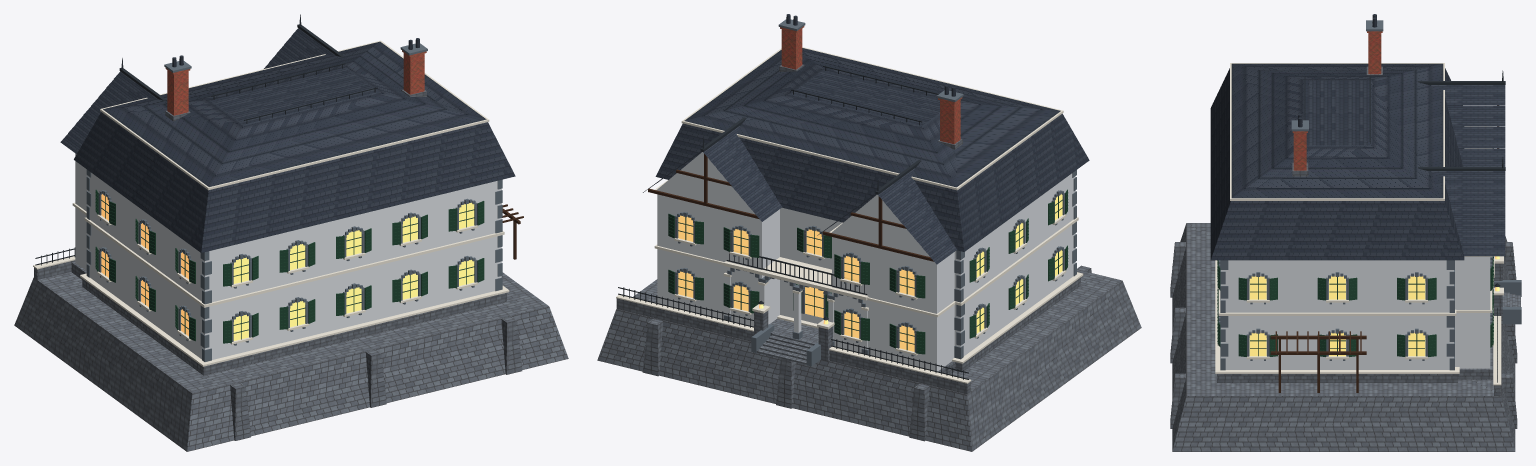
File: fv_yk_02_biet_dien_tran_le_xuan_lam_ngoc_manor.glb
3 views of the same model, side by side, from view 1: azimuth 30°, elevation 25°; view 2: azimuth 150°, elevation 25°; view 3: azimuth 270°, elevation 25° (orthographic).
Parts seen in each view (by area): view 1: Normandy_Brittany_Layered_Roof, Foundation_Skirt_Neg3p5m, Villa_Stucco_Walls, Molded_Cornices_And_Sills, PineGreen_Louvered_Shutters, Stone_Quoins_And_Arches, Warm_Night_Windows_20h00_Blend, Brick_Chimney_Stacks, Wrought_Iron_Balustrades_And_Gate, Roof_Ridges_Caps_And_Finials; view 2: Normandy_Brittany_Layered_Roof, Foundation_Skirt_Neg3p5m, Villa_Stucco_Walls, Molded_Cornices_And_Sills, Stone_Quoins_And_Arches, PineGreen_Louvered_Shutters, Warm_Night_Windows_20h00_Blend, Wrought_Iron_Balustrades_And_Gate, Exposed_Timber_Trusses_And_Rafters, Brick_Chimney_Stacks, Roof_Ridges_Caps_And_Finials; view 3: Normandy_Brittany_Layered_Roof, Foundation_Skirt_Neg3p5m, Villa_Stucco_Walls, Molded_Cornices_And_Sills, Stone_Quoins_And_Arches, PineGreen_Louvered_Shutters, Warm_Night_Windows_20h00_Blend, Exposed_Timber_Trusses_And_Rafters, Brick_Chimney_Stacks, Roof_Ridges_Caps_And_Finials.
Boxes of the visible parts, box(x1,y1,x2,y2) form: Normandy_Brittany_Layered_Roof: box(60, 28, 515, 252); Foundation_Skirt_Neg3p5m: box(14, 89, 568, 451); Villa_Stucco_Walls: box(75, 153, 501, 359); Molded_Cornices_And_Sills: box(33, 40, 509, 366); PineGreen_Louvered_Shutters: box(95, 189, 484, 343); Stone_Quoins_And_Arches: box(86, 43, 502, 361); Warm_Night_Windows_20h00_Blend: box(101, 194, 474, 340); Brick_Chimney_Stacks: box(165, 50, 426, 115); Wrought_Iron_Balustrades_And_Gate: box(35, 63, 377, 265); Roof_Ridges_Caps_And_Finials: box(119, 14, 344, 100); Normandy_Brittany_Layered_Roof: box(645, 14, 1089, 264); Foundation_Skirt_Neg3p5m: box(597, 64, 1141, 451); Villa_Stucco_Walls: box(656, 152, 1075, 371); Molded_Cornices_And_Sills: box(616, 47, 1083, 383); Stone_Quoins_And_Arches: box(675, 19, 1076, 366); PineGreen_Louvered_Shutters: box(668, 189, 1068, 354); Warm_Night_Windows_20h00_Blend: box(678, 194, 1062, 351); Wrought_Iron_Balustrades_And_Gate: box(618, 66, 968, 379); Exposed_Timber_Trusses_And_Rafters: box(648, 154, 933, 261); Brick_Chimney_Stacks: box(780, 26, 962, 144); Roof_Ridges_Caps_And_Finials: box(643, 117, 921, 235); Normandy_Brittany_Layered_Roof: box(1210, 14, 1505, 260); Foundation_Skirt_Neg3p5m: box(1170, 66, 1520, 451); Villa_Stucco_Walls: box(1221, 126, 1490, 369); Molded_Cornices_And_Sills: box(1215, 63, 1503, 385); Stone_Quoins_And_Arches: box(1218, 20, 1521, 370); PineGreen_Louvered_Shutters: box(1217, 148, 1493, 356); Warm_Night_Windows_20h00_Blend: box(1249, 256, 1499, 356); Exposed_Timber_Trusses_And_Rafters: box(1270, 105, 1498, 392); Brick_Chimney_Stacks: box(1292, 31, 1382, 170); Roof_Ridges_Caps_And_Finials: box(1418, 70, 1505, 170).
Bounding box in the file's own units: 28.32 × 20.7 × 22.32.
12 materials, 3 textured.
